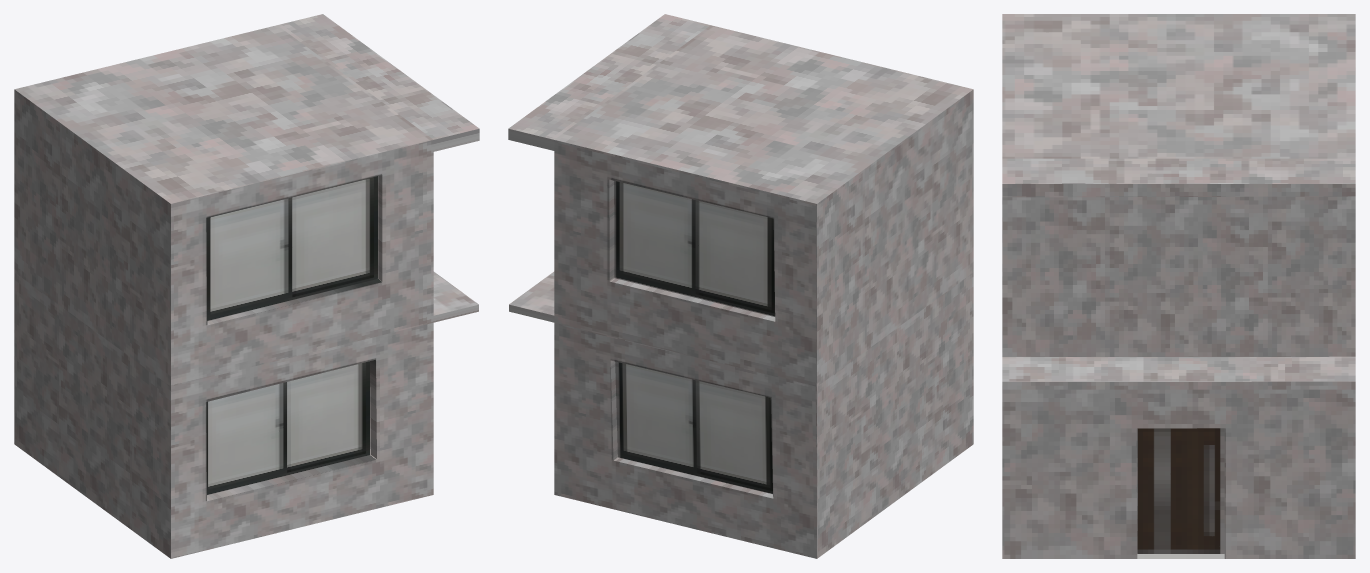
File: House1.fbx
3 renders of one model, left to right at view 1: azimuth 30°, elevation 25°; view 2: azimuth 150°, elevation 25°; view 3: azimuth 270°, elevation 25°, orthographic. The views are drawn at different scales.
Parts seen in each view (by area): view 1: Cube; view 2: Cube; view 3: Cube.
Boxes of the visible parts, <box> form: Cube: <box>14,14,479,558</box>; Cube: <box>508,14,973,558</box>; Cube: <box>1002,14,1355,558</box>.
Size of the model in its own units: 5759 by 6329 by 5062.
Materials: 1 (1 with a texture image).
